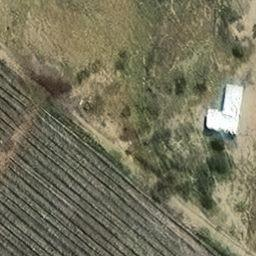manzanas: (206, 83, 245, 135)
